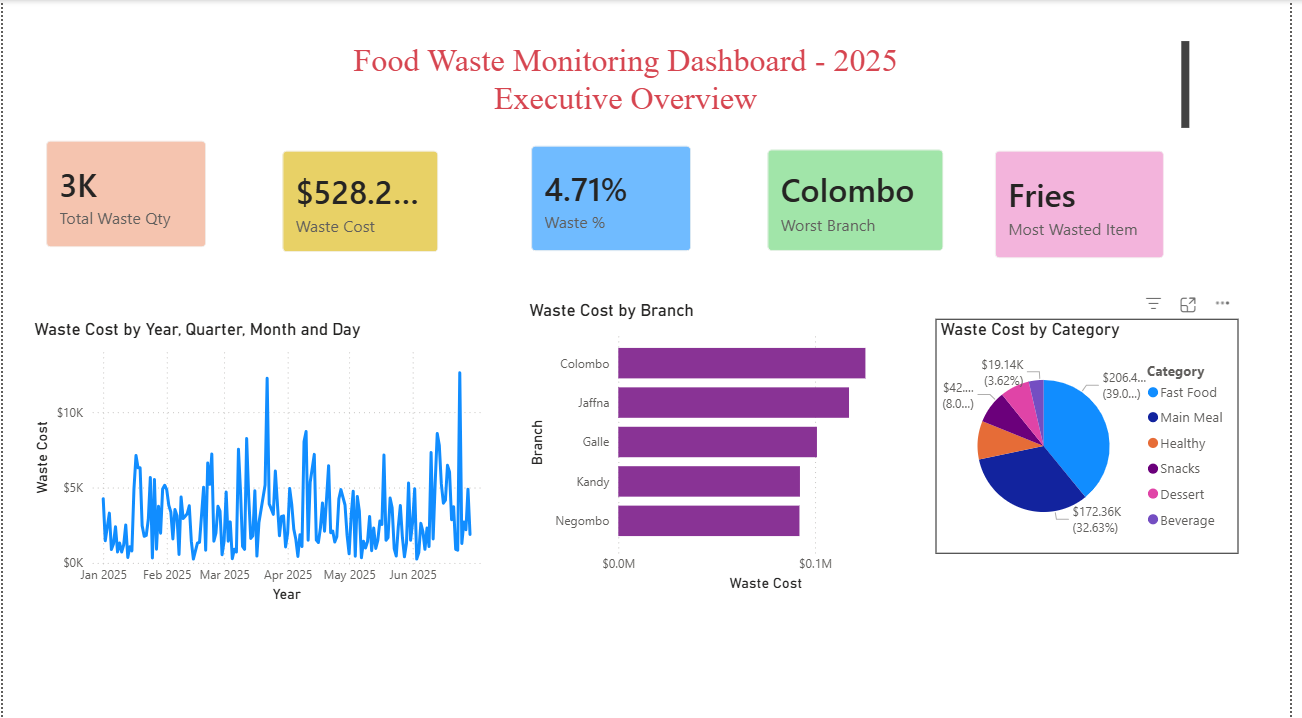

What the dashboard file says about the page in this screenshot:
{"tool":"powerbi","page":{"name":"Page 1","canvas":[1280,720],"ordinal":0},"visuals":[{"type":"cardVisual","fields":{"Data":["Measure Table.Total Waste Qty"]},"box":[26.3,122.6,193.6,140.1],"z":0},{"type":"cardVisual","fields":{"Data":["Measure Table.Waste Cost"]},"box":[260.7,133.3,189.7,135.2],"z":1000},{"type":"cardVisual","fields":{"Data":["Measure Table.Waste %"]},"box":[508.7,128.4,193.6,139.1],"z":2000},{"type":"cardVisual","fields":{"Data":["Measure Table.Worst Branch"]},"box":[744.1,132.3,209.1,135.2],"z":3000},{"type":"cardVisual","fields":{"Data":["Measure Table.Most Wasted Item"]},"box":[969.7,133.3,202.3,141],"z":4000},{"type":"lineChart","fields":{"Y":["Measure Table.Waste Cost"],"Category":["Calender.Date.Variation.Date Hierarchy.Year","Calender.Date.Variation.Date Hierarchy.Quarter","Calender.Date.Variation.Date Hierarchy.Month","Calender.Date.Variation.Date Hierarchy.Day"]},"box":[26.3,317.1,467.8,286.9],"z":5000},{"type":"clusteredBarChart","fields":{"Category":["BranchData.Branch"],"Y":["Measure Table.Waste Cost"]},"box":[518.4,298.6,409.5,294.7],"z":6000},{"type":"pieChart","fields":{"Category":["ItemMaster.Category"],"Y":["Measure Table.Waste Cost"]},"box":[927.9,317.1,300.5,234.4],"z":6001},{"type":"textbox","box":[927.9,561.2,285,158.5],"z":6002},{"type":"textbox","box":[62.2,36,1123.4,99.2],"z":6003}]}

Visuals, with their boxes in screenshot pixels (x1, y1, x2, y2), scaled from the page's 1280x720 canvas onto the 1302x718 screenshot:
cardVisual - Measure Table.Total Waste Qty: l=27, t=122, r=224, b=262
cardVisual - Measure Table.Waste Cost: l=265, t=133, r=458, b=268
cardVisual - Measure Table.Waste %: l=517, t=128, r=714, b=267
cardVisual - Measure Table.Worst Branch: l=757, t=132, r=970, b=267
cardVisual - Measure Table.Most Wasted Item: l=986, t=133, r=1192, b=274
lineChart - Measure Table.Waste Cost x Calender.Date.Variation.Date Hierarchy.Year: l=27, t=316, r=503, b=602
clusteredBarChart - BranchData.Branch x Measure Table.Waste Cost: l=527, t=298, r=944, b=592
pieChart - ItemMaster.Category x Measure Table.Waste Cost: l=944, t=316, r=1250, b=550
textbox: l=944, t=560, r=1234, b=717
textbox: l=63, t=36, r=1206, b=135
